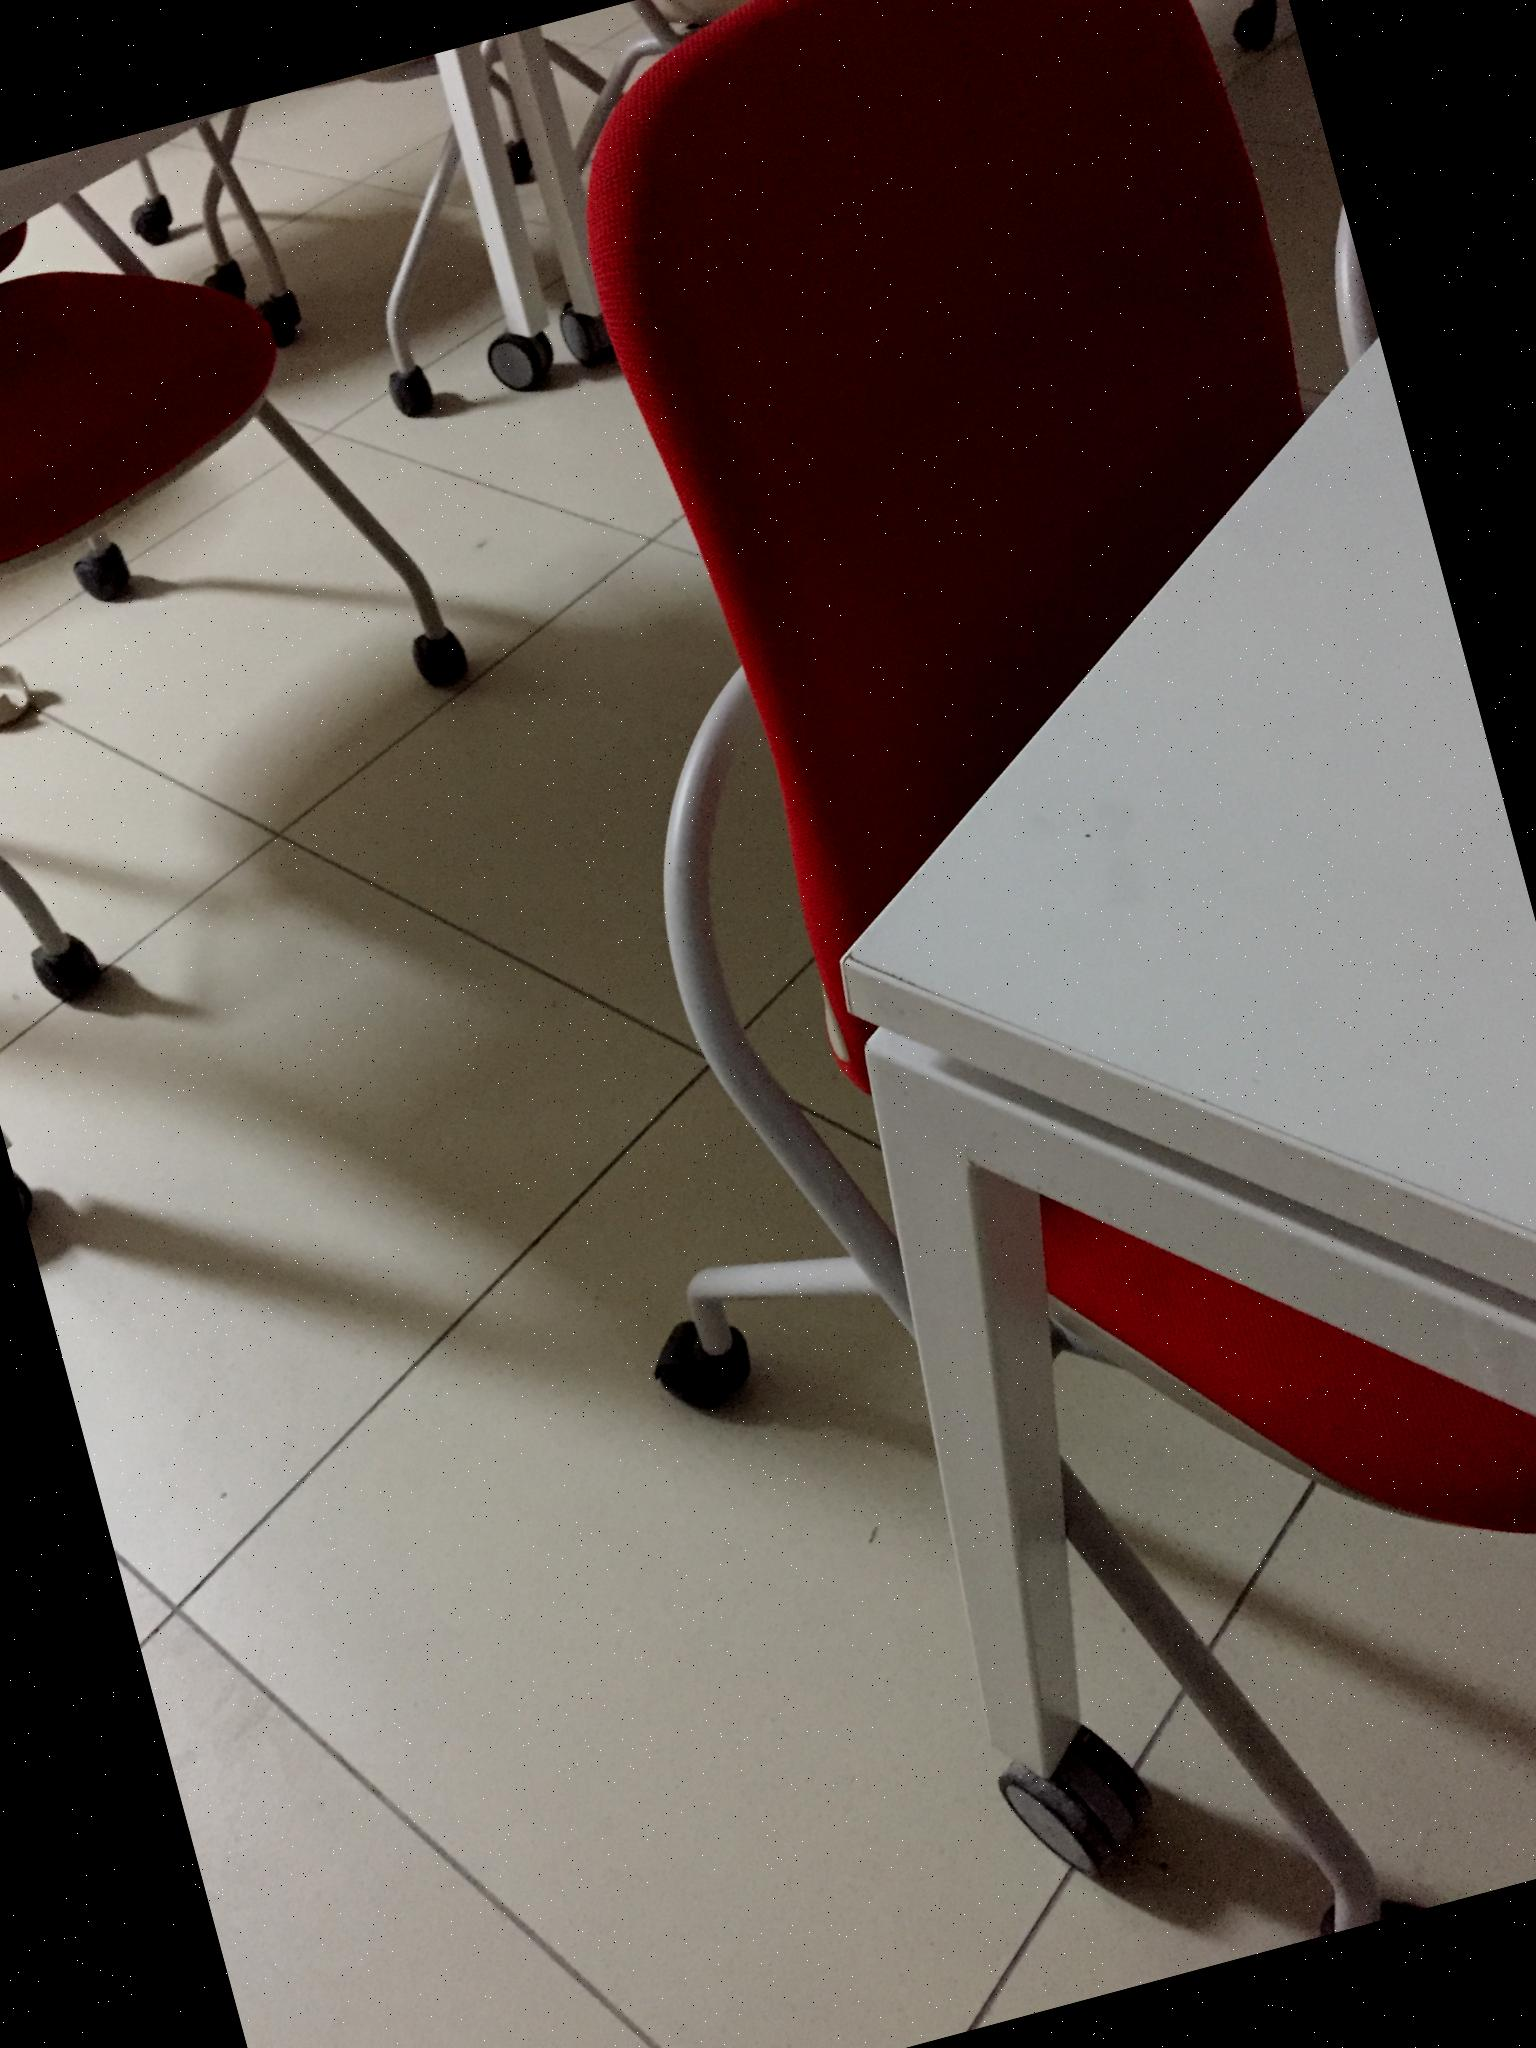chair: (394, 0, 1536, 2025), (0, 85, 547, 1097)
